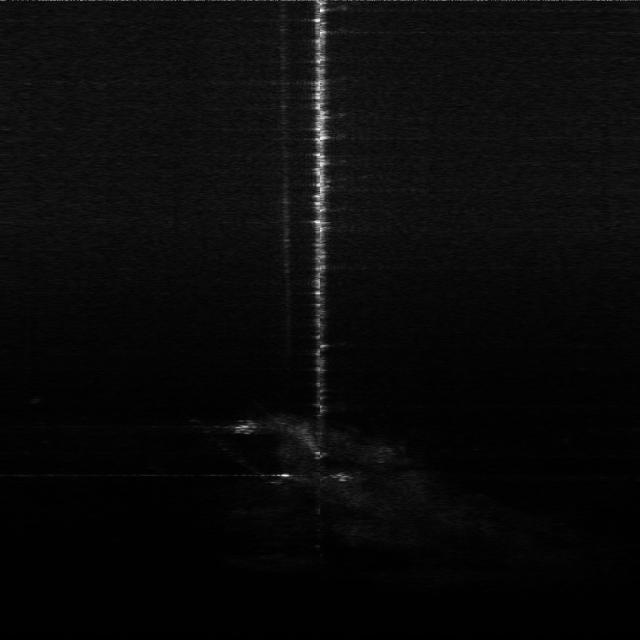rov: (231, 414, 258, 437)
